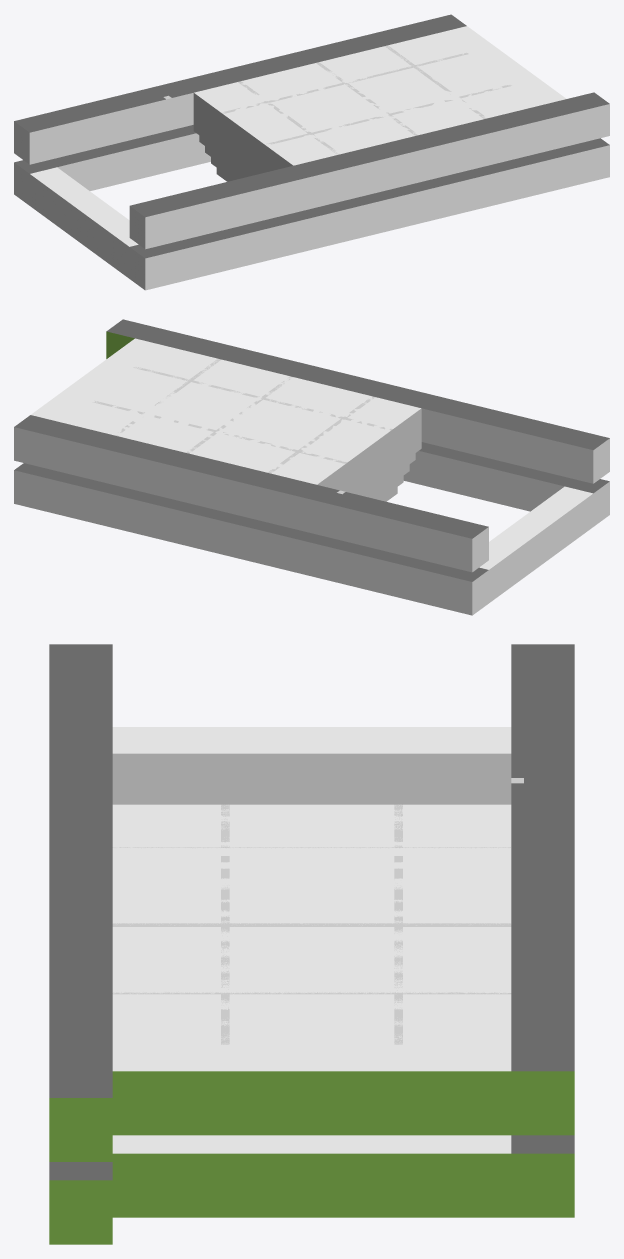
The model's file is map1.obj.
3 views of the same model, one above another, from view 1: azimuth 30°, elevation 25°; view 2: azimuth 150°, elevation 25°; view 3: azimuth 270°, elevation 25° (orthographic). The views are drawn at different scales.
Parts seen in each view (by area): view 1: Mesh24 Group1 Model, Mesh13 balk3_2 Group2 Group1 Model, Mesh12 balk3_1 Group2 Group1 Model; view 2: Mesh24 Group1 Model, Mesh12 balk3_1 Group2 Group1 Model, Mesh13 balk3_2 Group2 Group1 Model; view 3: Mesh24 Group1 Model, Mesh13 balk3_2 Group2 Group1 Model, Mesh12 balk3_1 Group2 Group1 Model, Mesh1 balk1_1 Group2 Group1 Model, Mesh2 balk1_2 Group2 Group1 Model.
Part boxes in pixels (<box>): Mesh24 Group1 Model: <box>14,14,609,290</box>; Mesh13 balk3_2 Group2 Group1 Model: <box>223,54,461,113</box>; Mesh12 balk3_1 Group2 Group1 Model: <box>266,86,505,144</box>; Mesh24 Group1 Model: <box>14,319,609,615</box>; Mesh12 balk3_1 Group2 Group1 Model: <box>140,368,392,430</box>; Mesh13 balk3_2 Group2 Group1 Model: <box>95,401,347,463</box>; Mesh24 Group1 Model: <box>49,644,574,1244</box>; Mesh13 balk3_2 Group2 Group1 Model: <box>394,804,402,1037</box>; Mesh12 balk3_1 Group2 Group1 Model: <box>221,804,229,1037</box>; Mesh1 balk1_1 Group2 Group1 Model: <box>128,923,495,926</box>; Mesh2 balk1_2 Group2 Group1 Model: <box>128,991,495,994</box>.
Size of the model in its own units: 4250 by 640 by 2080.
